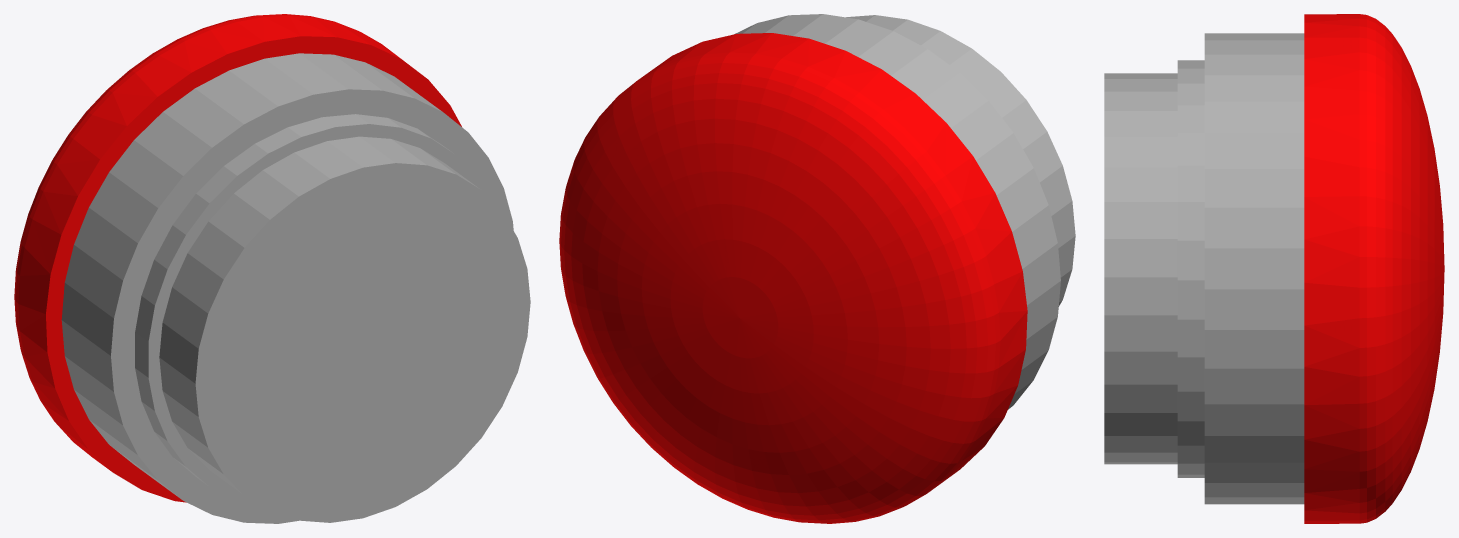
Rendered from estop_link.DAE.
3 views of the same model, side by side, from view 1: azimuth 30°, elevation 25°; view 2: azimuth 150°, elevation 25°; view 3: azimuth 270°, elevation 25° (orthographic).
Visible parts, largest first — view 1: estop_link; view 2: estop_link; view 3: estop_link.
Part boxes in pixels (<box>): estop_link: <box>14,14,530,523</box>; estop_link: <box>559,14,1075,523</box>; estop_link: <box>1104,14,1444,523</box>.
Bounding box in the file's own units: 0.03 × 0.02 × 0.03.
